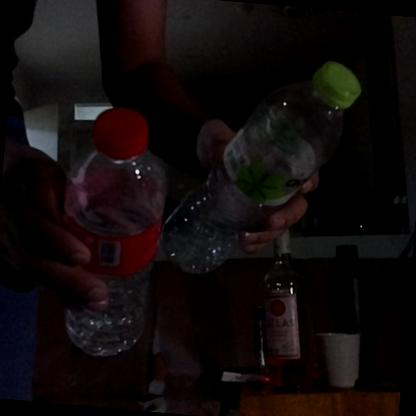plastic_bottles: (158, 46, 364, 288), (57, 101, 167, 362)
